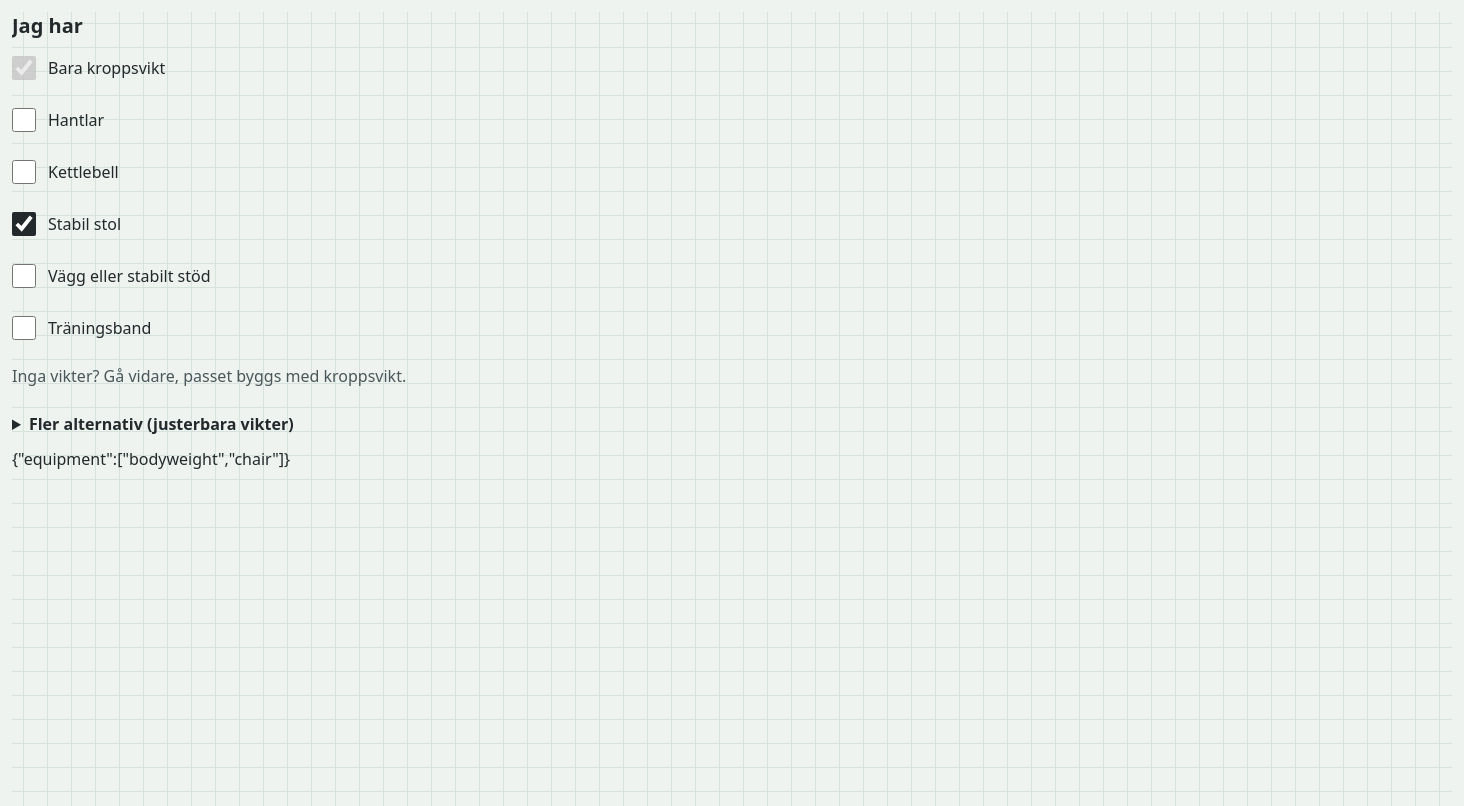
it: EquipmentInventory › shows an alert for a bad weight on Enter and for a third of a pair
Click the checkbox labelled "Hantlar".
click(24, 120)  # box [12,108,36,132]
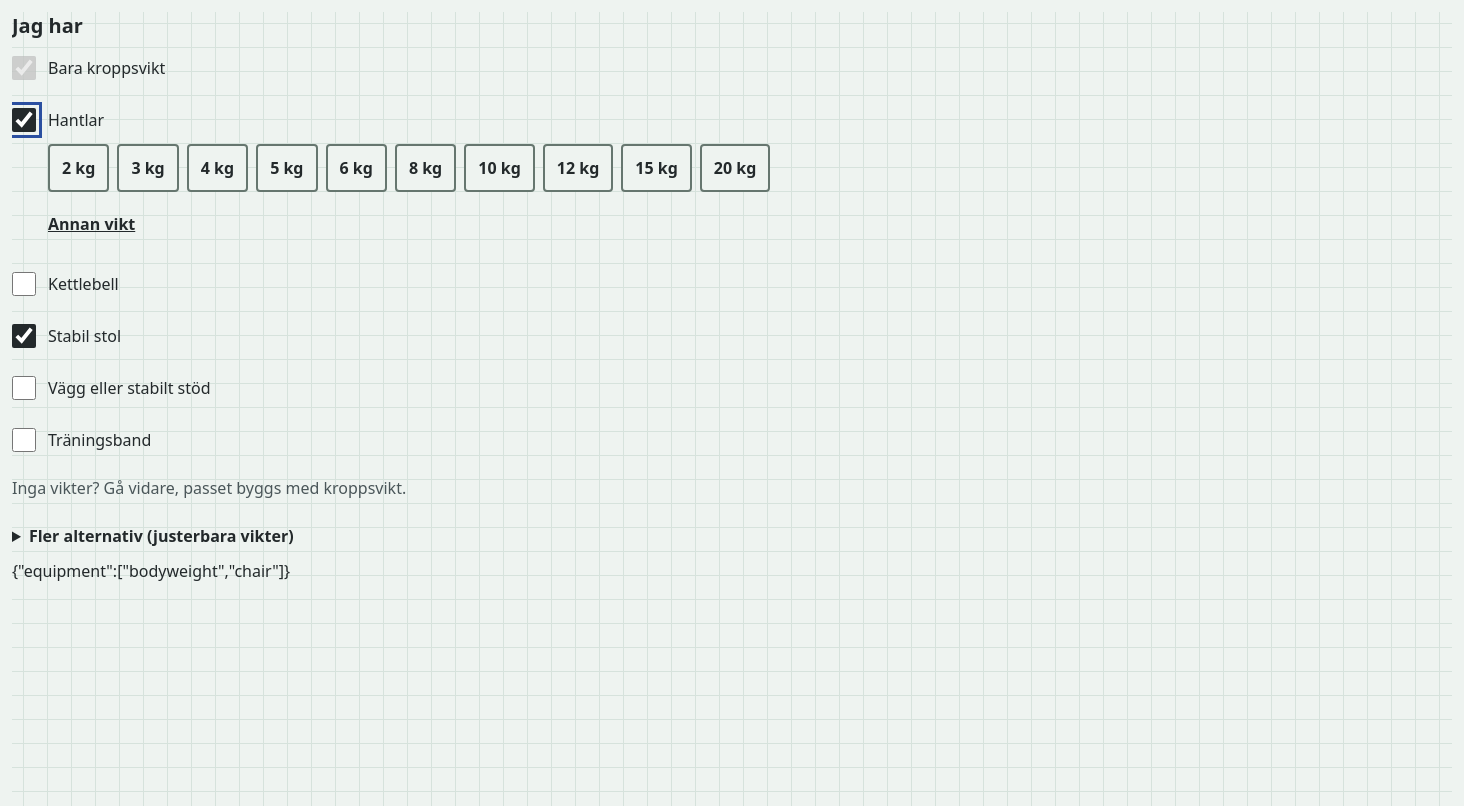
Click the button with aria-label "Annan vikt, hantel".
click(92, 224)  # box [48,200,135,248]
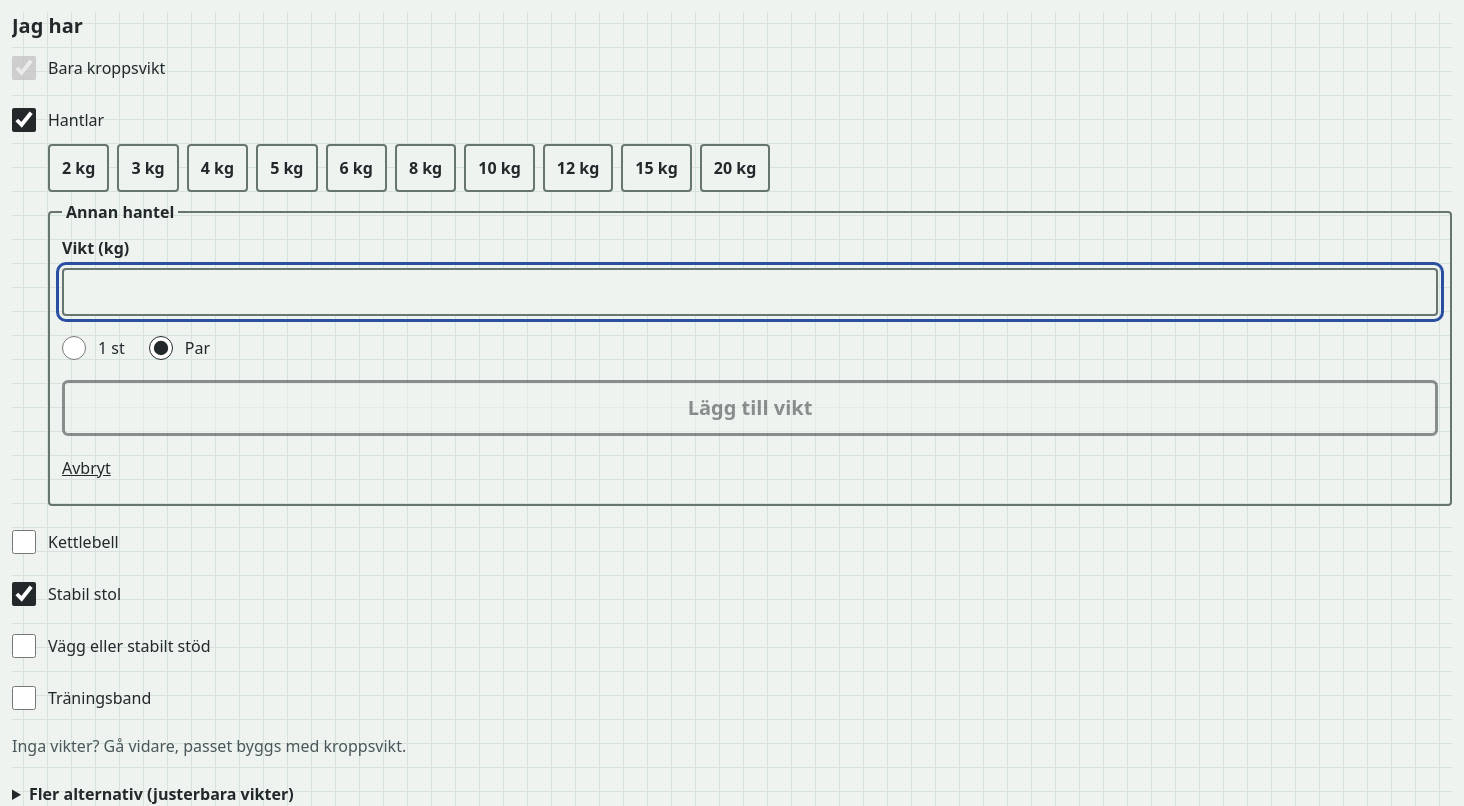
Type "tung" into the field labelled "Vikt (kg)".
click(750, 292); type("tung")  # box [62,268,1438,316]
Then press Enter
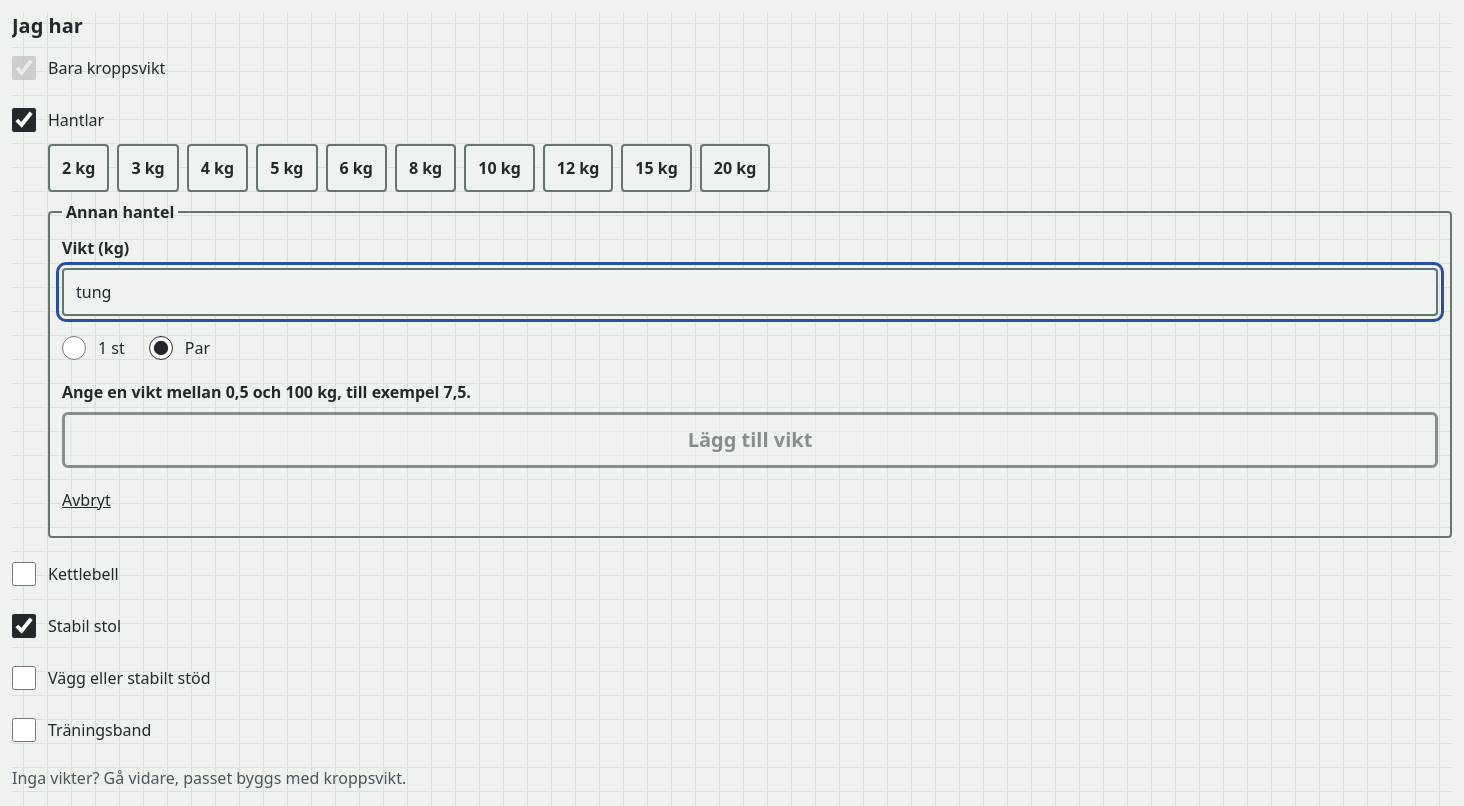
Check: the message shows "0,5 och 100", box [62,381,471,403]
Replace the text in the field labelled "Vikt (kg)" with "5" at (750, 292), box [62,268,1438,316]
Then press Enter
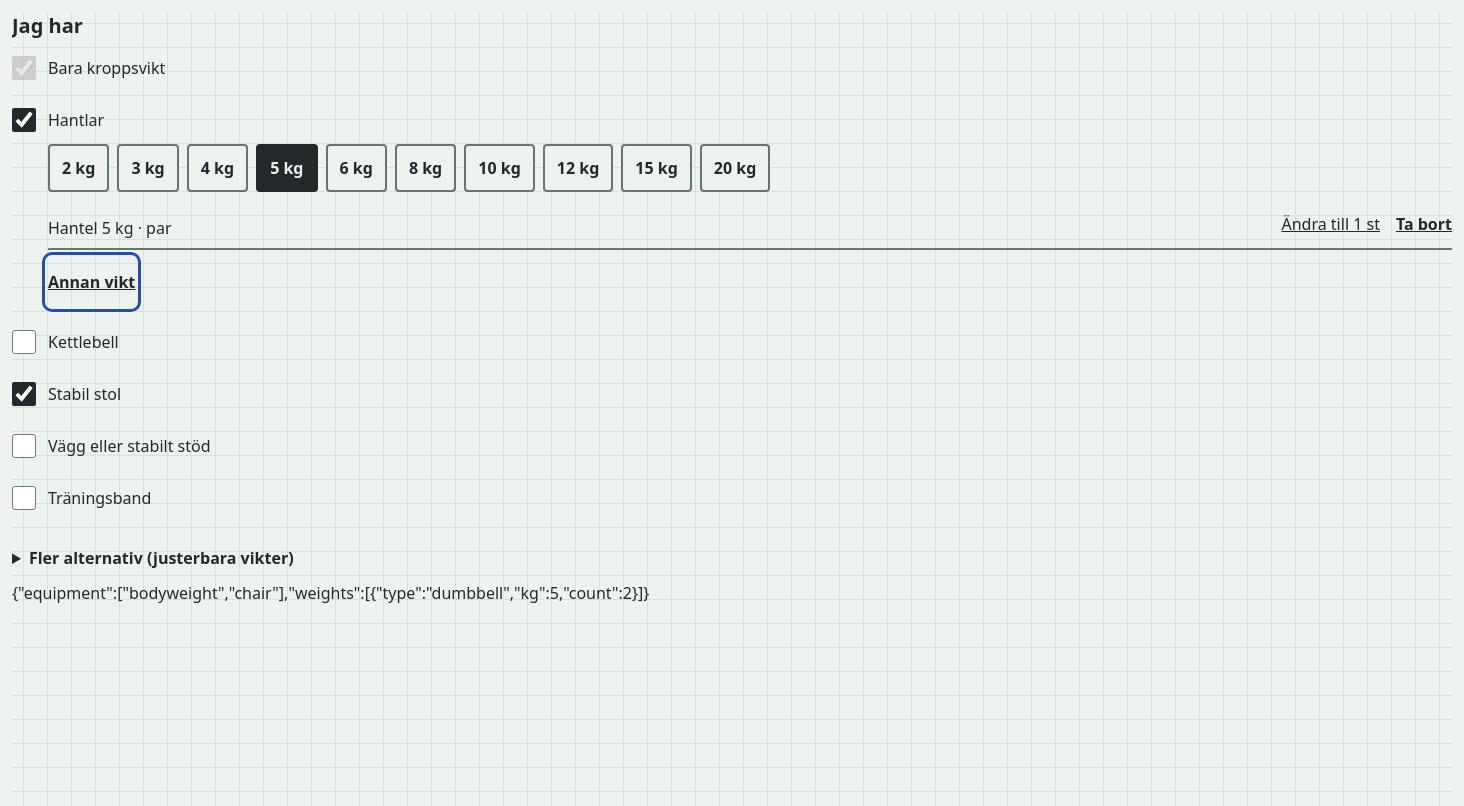
Click the button with aria-label "Annan vikt, hantel".
click(92, 282)  # box [48,258,135,306]
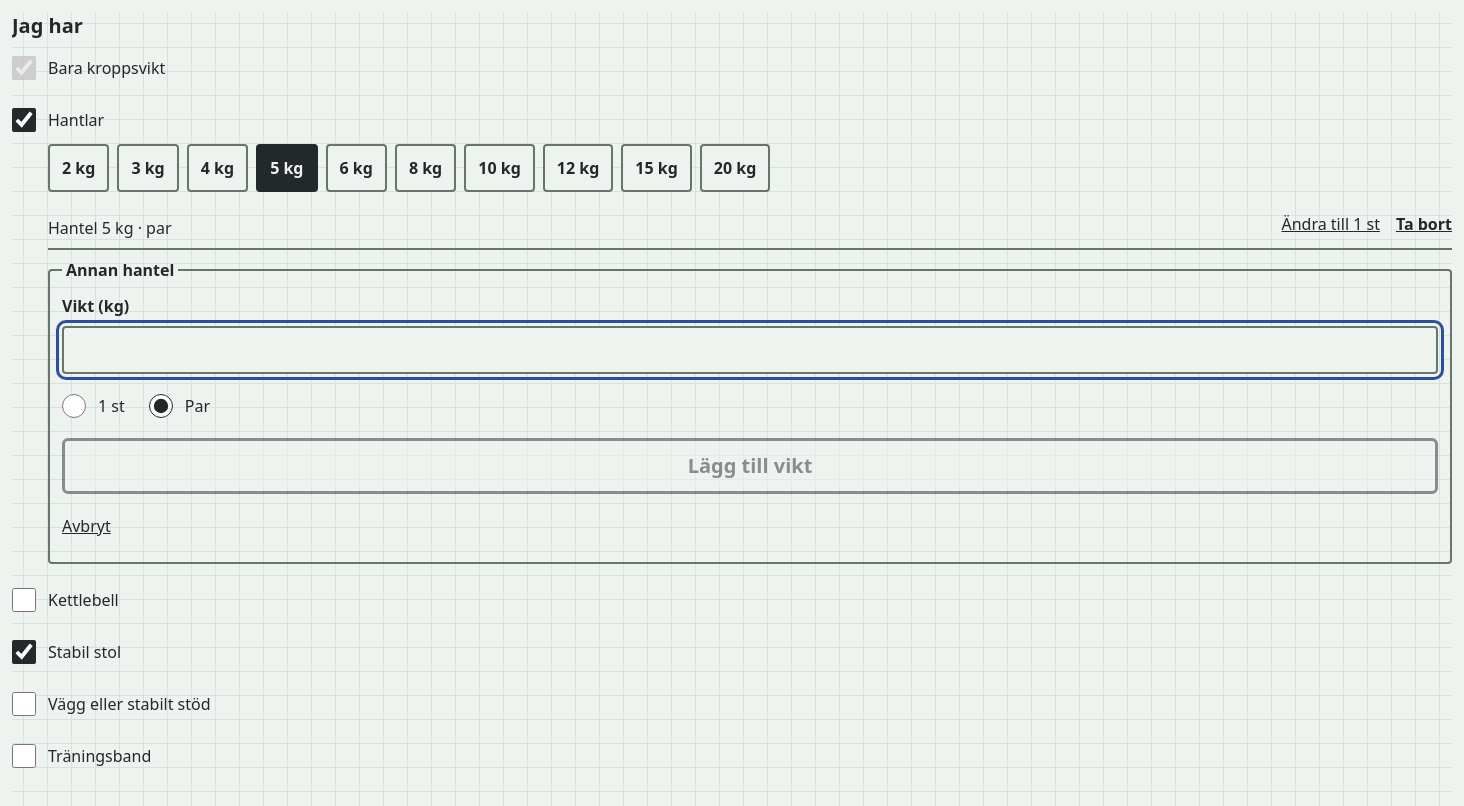
Type "5" into the field labelled "Vikt (kg)".
click(750, 350); type("5")  # box [62,326,1438,374]
Then press Enter
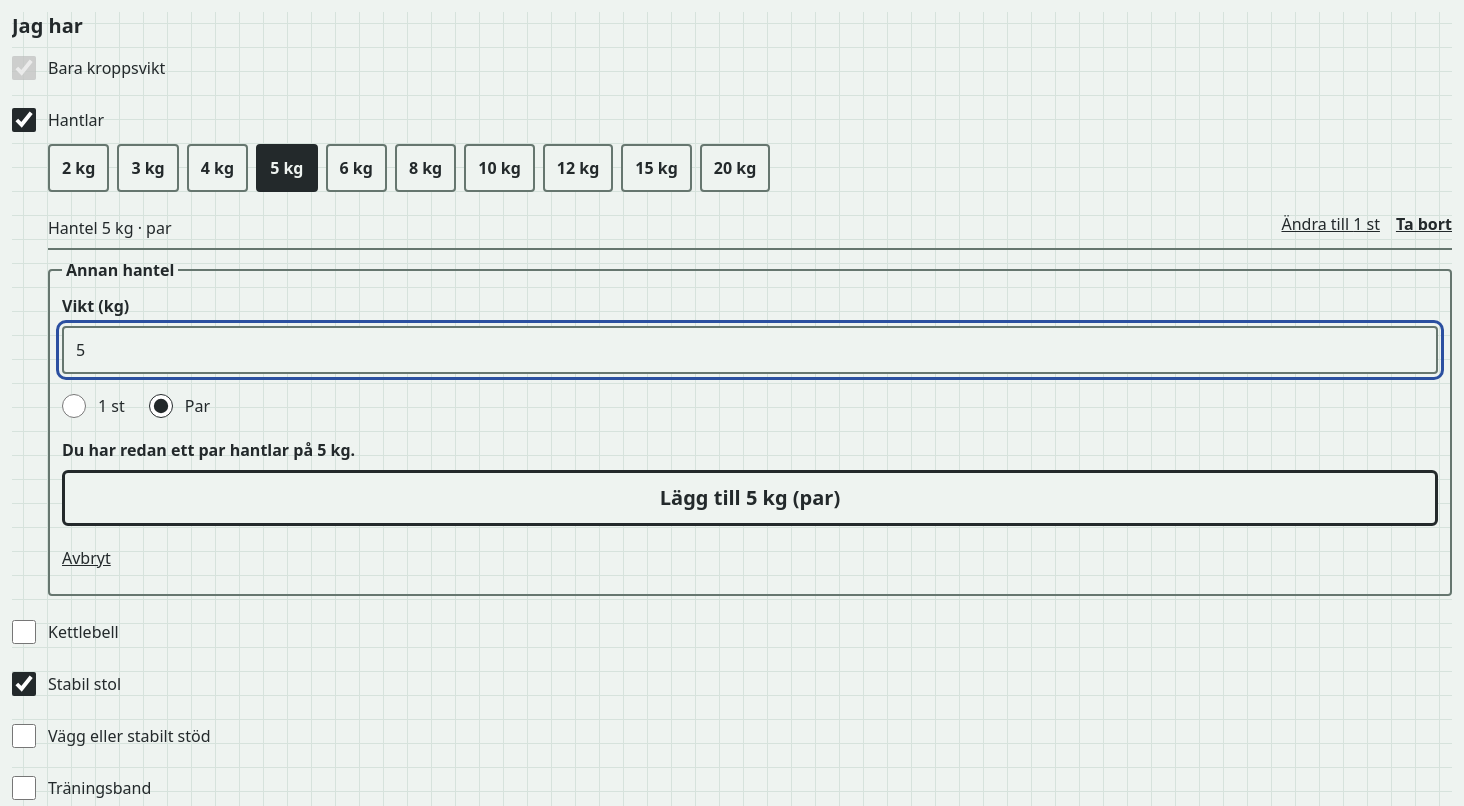
Check: the message shows "redan ett par", box [62,439,355,461]
